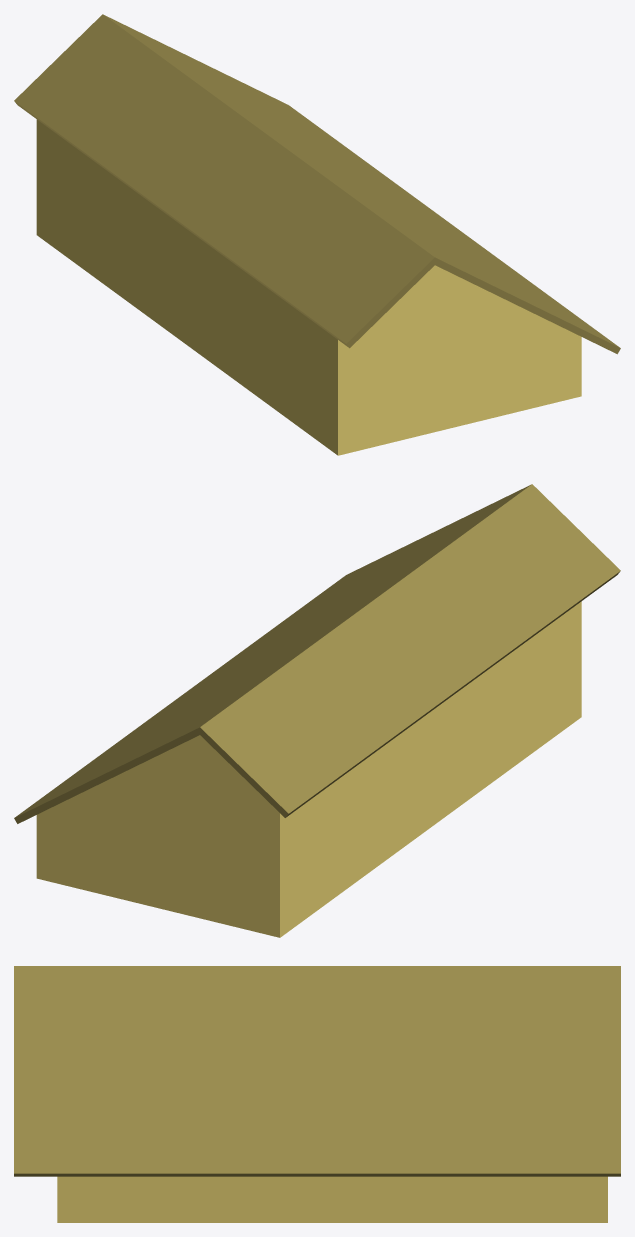
Rendered from result.glb.
The picture shows the model from 3 angles, top to bottom: view 1: azimuth 30°, elevation 25°; view 2: azimuth 150°, elevation 25°; view 3: azimuth 270°, elevation 25°; orthographic projection. The views are drawn at different scales.
Parts seen in each view (by area): view 1: 85e7ea2a-a22d-47d4-9033-76d1dc12ddda__undefined (×2), aefe7987-c905-4433-93b9-2186c76017ea__undefined; view 2: 85e7ea2a-a22d-47d4-9033-76d1dc12ddda__undefined (×2), aefe7987-c905-4433-93b9-2186c76017ea__undefined; view 3: 85e7ea2a-a22d-47d4-9033-76d1dc12ddda__undefined, aefe7987-c905-4433-93b9-2186c76017ea__undefined.
Part boxes in pixels (x1,y1,x2,y2): 85e7ea2a-a22d-47d4-9033-76d1dc12ddda__undefined (×2): (14, 14, 620, 354); aefe7987-c905-4433-93b9-2186c76017ea__undefined: (36, 119, 581, 455); 85e7ea2a-a22d-47d4-9033-76d1dc12ddda__undefined (×2): (14, 484, 620, 823); aefe7987-c905-4433-93b9-2186c76017ea__undefined: (36, 601, 581, 937); 85e7ea2a-a22d-47d4-9033-76d1dc12ddda__undefined: (14, 966, 620, 1176); aefe7987-c905-4433-93b9-2186c76017ea__undefined: (57, 1176, 607, 1222).
Size of the model in its own units: 1127 by 776 by 2360.
